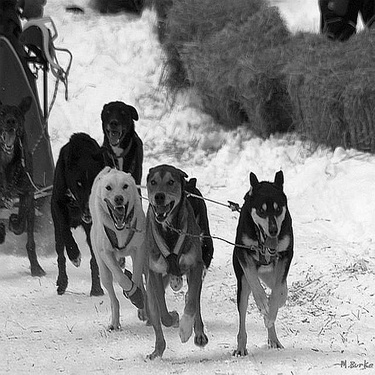dog: (126, 160, 214, 367), (223, 161, 297, 360), (87, 161, 151, 337), (50, 127, 109, 300), (1, 90, 51, 281), (95, 98, 145, 269), (165, 171, 215, 290)
